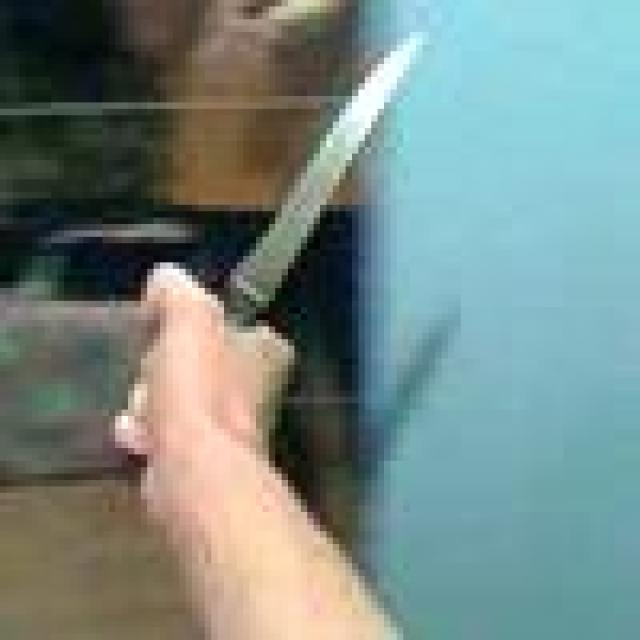faca: (77, 12, 454, 532)
